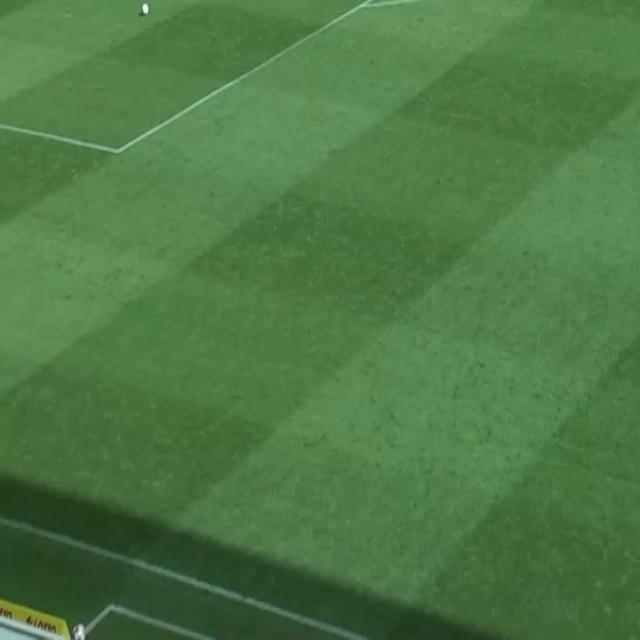ball: (141, 2, 149, 15)
